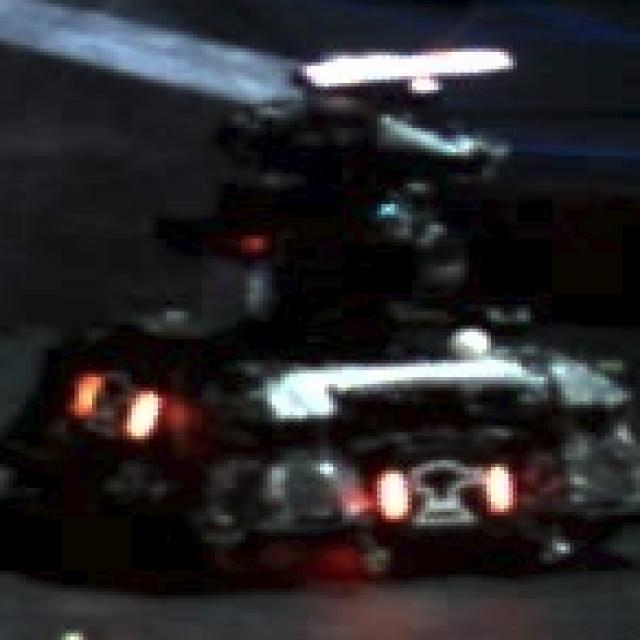Rs: (372, 460, 508, 519), (70, 374, 171, 439)
